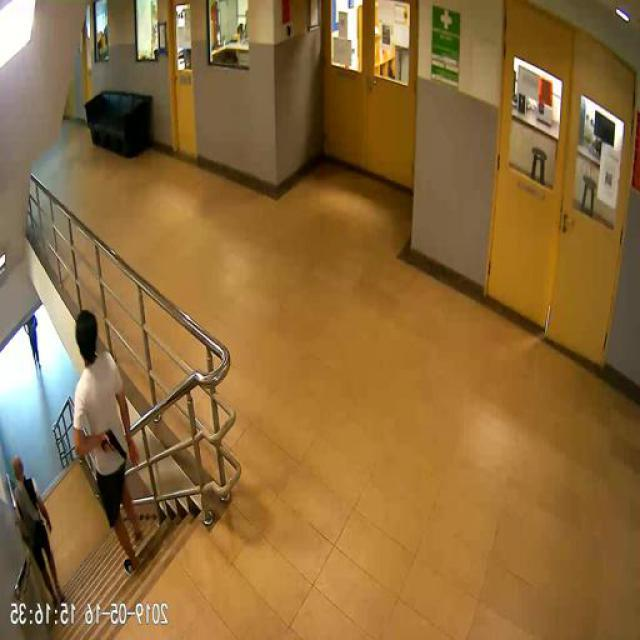Gun: (104, 427, 128, 458)
